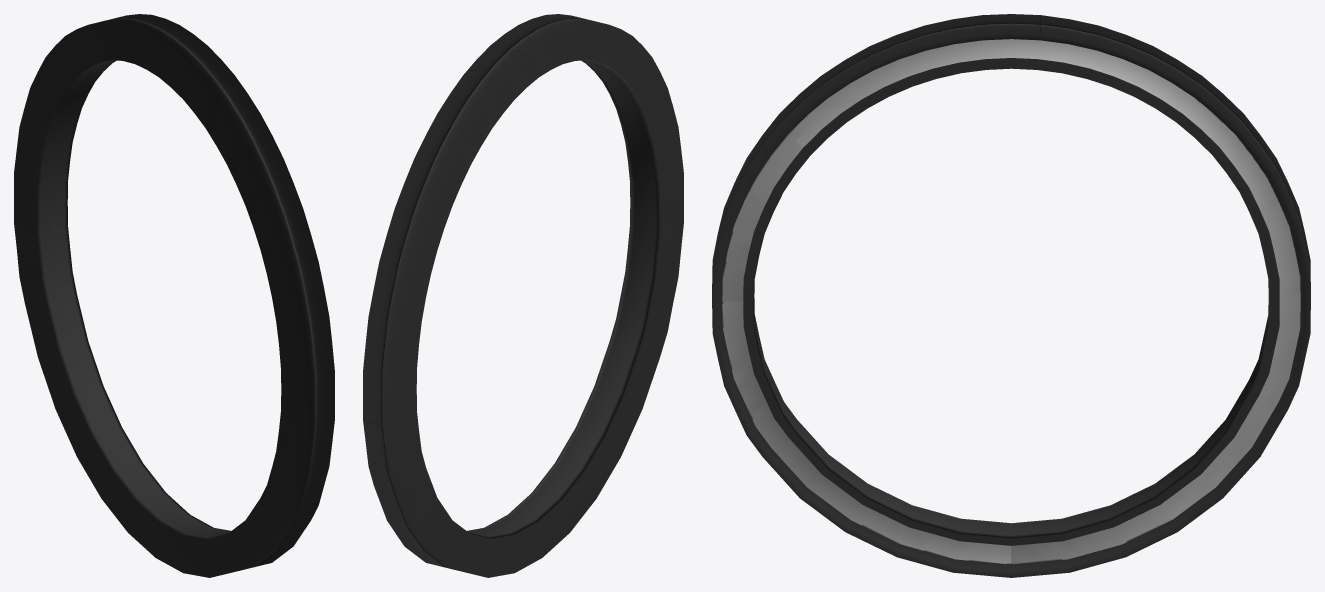
The model's file is MS_Stage_Arch.fbx.
The picture shows the model from 3 angles, left to right: view 1: azimuth 30°, elevation 25°; view 2: azimuth 150°, elevation 25°; view 3: azimuth 270°, elevation 25°; orthographic projection. The views are drawn at different scales.
Parts seen in each view (by area): view 1: MS_CircleDoor; view 2: MS_CircleDoor; view 3: MS_CircleDoor.
Boxes of the visible parts, x1,y1,x2,y2 form: MS_CircleDoor: (14, 14, 334, 577); MS_CircleDoor: (363, 14, 683, 577); MS_CircleDoor: (712, 14, 1310, 577).
Size of the model in its own units: 65.86 by 848 by 845.
